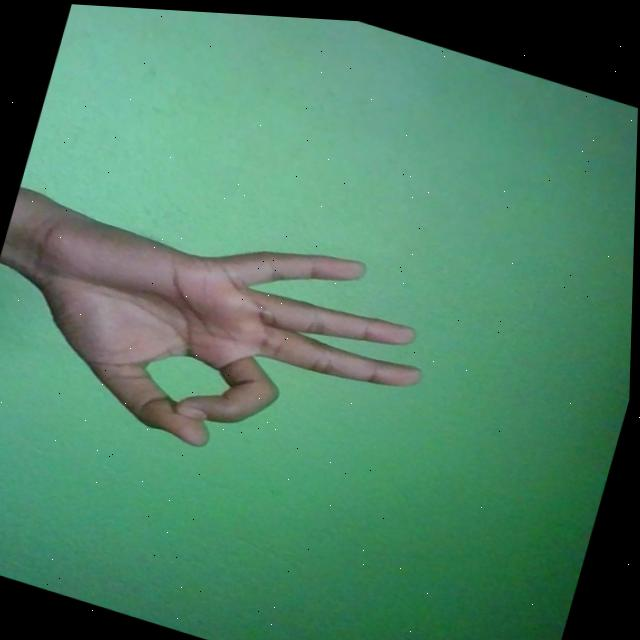Ok: (0, 161, 447, 502)
